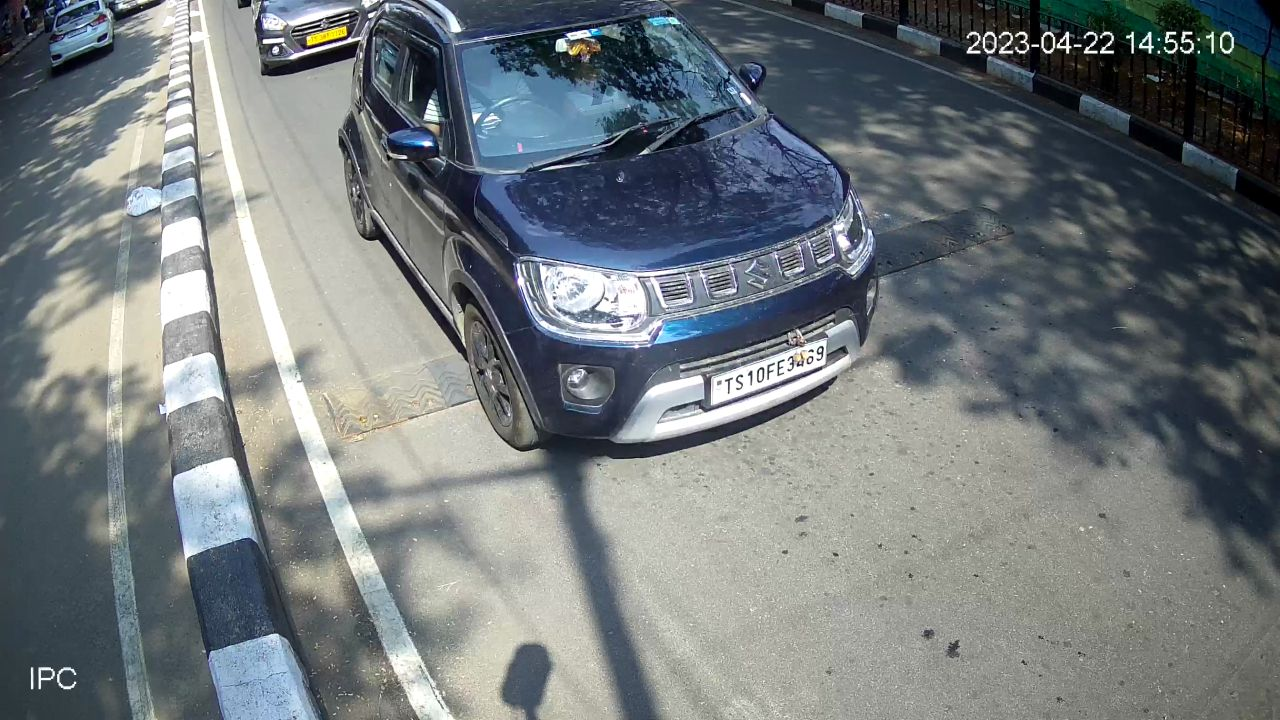license_plate: (700, 329, 834, 418)
